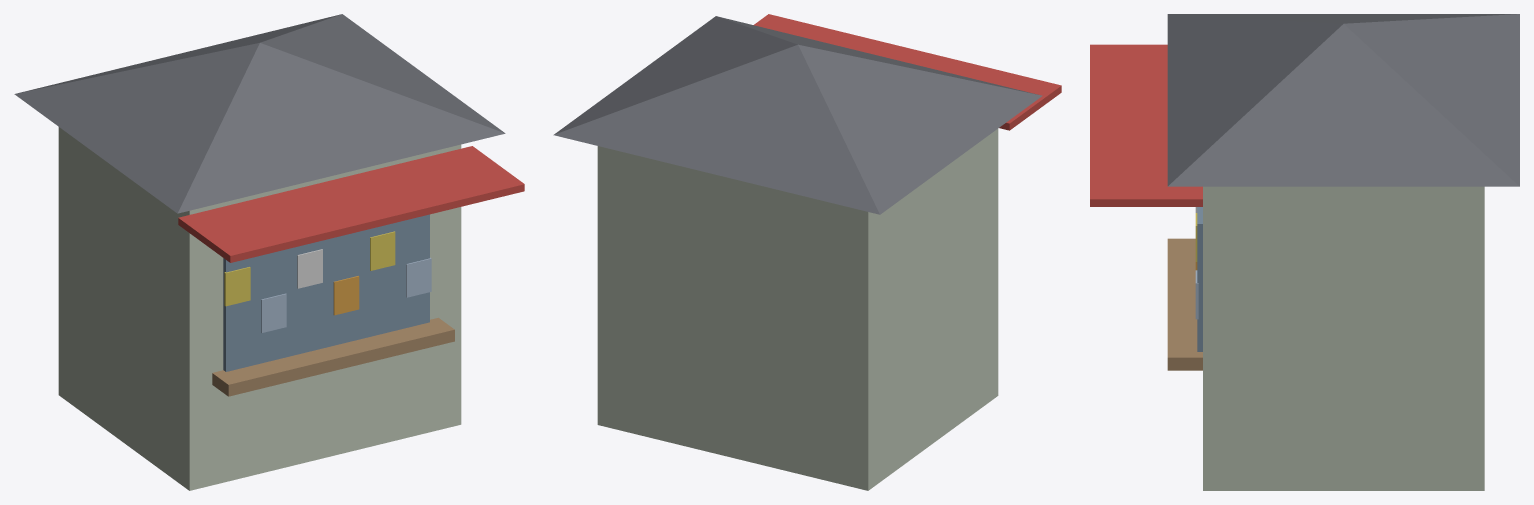
The model's file is Bufe.glb.
3 views of the same model, side by side, from view 1: azimuth 30°, elevation 25°; view 2: azimuth 150°, elevation 25°; view 3: azimuth 270°, elevation 25° (orthographic). The views are drawn at different scales.
Parts seen in each view (by area): view 1: Bufe; view 2: Bufe; view 3: Bufe.
Boxes of the visible parts, <box> form: Bufe: <box>14,14,524,490</box>; Bufe: <box>553,14,1061,490</box>; Bufe: <box>1090,14,1519,490</box>.
Size of the model in its own units: 2.9 by 3.1 by 3.05.
